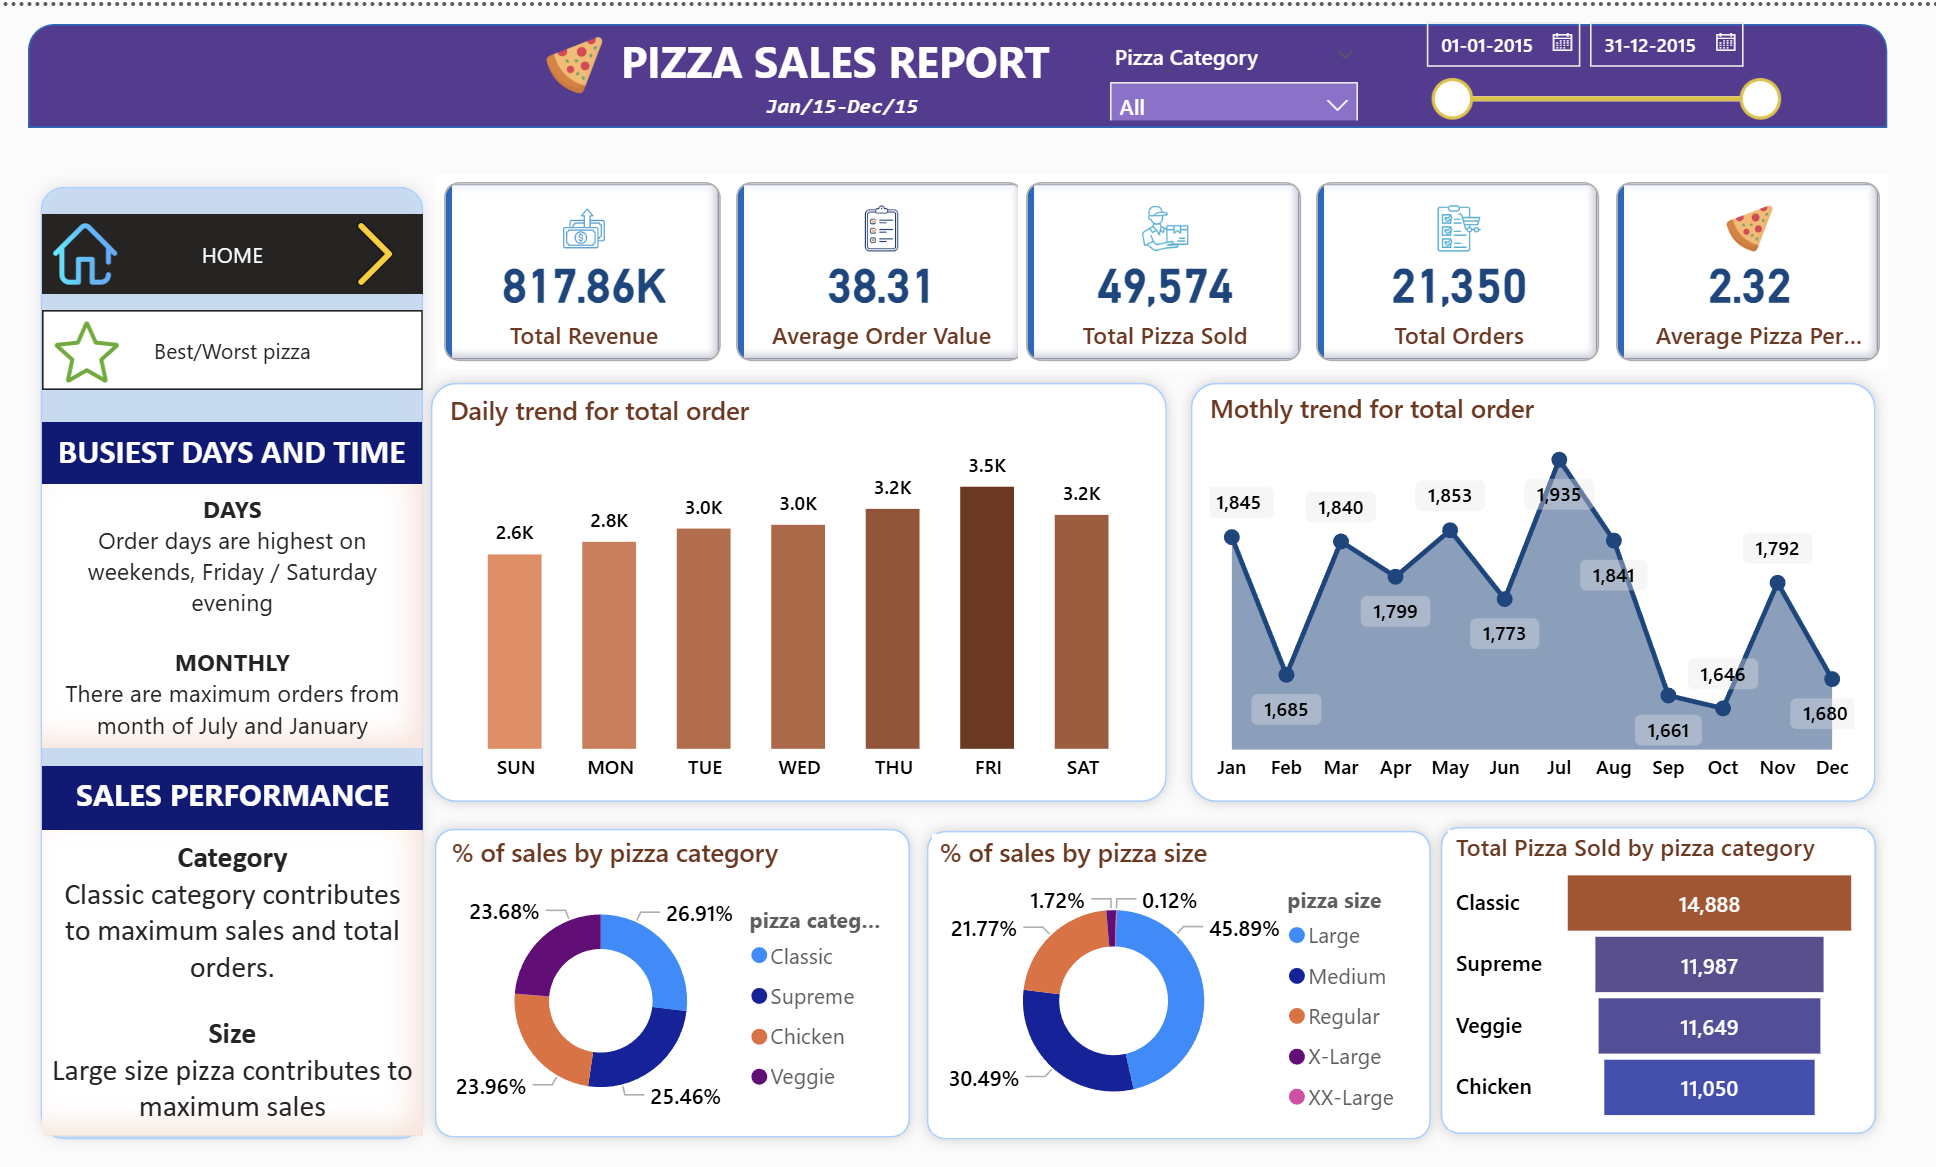

What the dashboard file says about the page in this screenshot:
{"tool":"powerbi","page":{"name":"HOME","canvas":[1500,820],"ordinal":0},"visuals":[{"type":"cardVisual","fields":{"Data":["Pizza_Measures.Total Revenue"]},"box":[367,105,183,122],"z":0},{"type":"cardVisual","fields":{"Data":["Pizza_Measures.Average Order Value"]},"box":[550,105,190,122],"z":1000},{"type":"cardVisual","fields":{"Data":["Pizza_Measures.Total Pizza Sold"]},"box":[731,105,182,122],"z":2000},{"type":"cardVisual","fields":{"Data":["Pizza_Measures.Total Orders"]},"box":[913,105,187,122],"z":3000},{"type":"cardVisual","fields":{"Data":["Pizza_Measures.Average Pizza Per Order"]},"box":[1100,105,175,122],"z":4000},{"type":"shape","box":[113,11,1162,65],"z":5000},{"type":"textbox","box":[411.2,11.2,411.2,48.8],"z":6000},{"type":"textbox","box":[528.8,47.5,185,28.8],"z":7000},{"type":"image","box":[421.2,13.8,65,46.2],"z":8000},{"type":"shape","box":[356,228,476,278],"z":9000},{"type":"columnChart","title":"Daily trend for total order","fields":{"Category":["pizza_sales.Order day"],"Y":["Pizza_Measures.Total Orders"]},"box":[371,241,447,253],"z":10000},{"type":"shape","box":[831,228,444,278],"z":11000},{"type":"areaChart","title":"Mothly trend for total order","fields":{"Category":["Date Table.Month Name"],"Y":["Pizza_Measures.Total Orders"]},"box":[846.2,240,412.5,253.8],"z":12000},{"type":"shape","box":[359,506,313,209],"z":13000},{"type":"shape","box":[666,507,331,209],"z":14000},{"type":"shape","box":[987,505,288,208],"z":15000},{"type":"donutChart","title":"% of sales by pizza category","fields":{"Category":["pizza_sales.pizza category"],"Y":["Pizza_Measures.Total Revenue"]},"box":[373,518,286,187],"z":16000},{"type":"donutChart","title":"% of sales by pizza size","fields":{"Y":["Pizza_Measures.Total Revenue"],"Category":["pizza_sales.pizza size"]},"box":[678,518,305,187],"z":17000},{"type":"funnel","fields":{"Category":["pizza_sales.pizza category"],"Y":["Pizza_Measures.Total Pizza Sold"]},"box":[1000,515,262,187],"z":18000},{"type":"shape","box":[112.5,105,255,611.2],"z":19000},{"type":"textbox","box":[121.2,260,237.5,38.8],"z":20000},{"type":"textbox","box":[121,299,238,165],"z":21000},{"type":"textbox","box":[121,475,238,41],"z":22000},{"type":"textbox","box":[121,515,238,191],"z":23000},{"type":"slicer","fields":{"Values":["pizza_sales.pizza category"]},"box":[778.8,17.5,175,53.8],"z":24000},{"type":"slicer","fields":{"Values":["pizza_sales.order date"]},"box":[974,0,242,76],"z":25000},{"type":"pageNavigator","box":[121,130,238,50],"z":26000},{"type":"pageNavigator","box":[121,190,238,50],"z":27000},{"type":"image","box":[300,130,59,50],"z":28000},{"type":"image","box":[121,130,54,50],"z":29000},{"type":"image","box":[121,191,56,50],"z":30000}]}

Visuals, with their boxes on the page's 1500x820 design canvas (x1, y1, x2, y2). These are canvas units, not pixel positions in the 1936x1167 screenshot, which may show the page scaled, cropped or inside an application window:
cardVisual - Pizza_Measures.Total Revenue: bbox(367, 105, 550, 227)
cardVisual - Pizza_Measures.Average Order Value: bbox(550, 105, 740, 227)
cardVisual - Pizza_Measures.Total Pizza Sold: bbox(731, 105, 913, 227)
cardVisual - Pizza_Measures.Total Orders: bbox(913, 105, 1100, 227)
cardVisual - Pizza_Measures.Average Pizza Per Order: bbox(1100, 105, 1275, 227)
shape: bbox(113, 11, 1275, 76)
textbox: bbox(411, 11, 822, 60)
textbox: bbox(529, 48, 714, 76)
image: bbox(421, 14, 486, 60)
shape: bbox(356, 228, 832, 506)
"Daily trend for total order" columnChart: bbox(371, 241, 818, 494)
shape: bbox(831, 228, 1275, 506)
"Mothly trend for total order" areaChart: bbox(846, 240, 1259, 494)
shape: bbox(359, 506, 672, 715)
shape: bbox(666, 507, 997, 716)
shape: bbox(987, 505, 1275, 713)
"% of sales by pizza category" donutChart: bbox(373, 518, 659, 705)
"% of sales by pizza size" donutChart: bbox(678, 518, 983, 705)
funnel - pizza_sales.pizza category x Pizza_Measures.Total Pizza Sold: bbox(1000, 515, 1262, 702)
shape: bbox(112, 105, 368, 716)
textbox: bbox(121, 260, 359, 299)
textbox: bbox(121, 299, 359, 464)
textbox: bbox(121, 475, 359, 516)
textbox: bbox(121, 515, 359, 706)
slicer - pizza_sales.pizza category: bbox(779, 18, 954, 71)
slicer - pizza_sales.order date: bbox(974, 0, 1216, 76)
pageNavigator: bbox(121, 130, 359, 180)
pageNavigator: bbox(121, 190, 359, 240)
image: bbox(300, 130, 359, 180)
image: bbox(121, 130, 175, 180)
image: bbox(121, 191, 177, 241)
